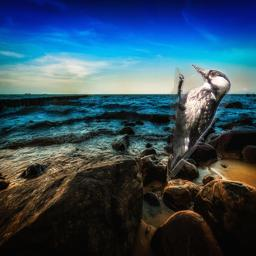Woodpecker: (170, 63, 231, 177)
